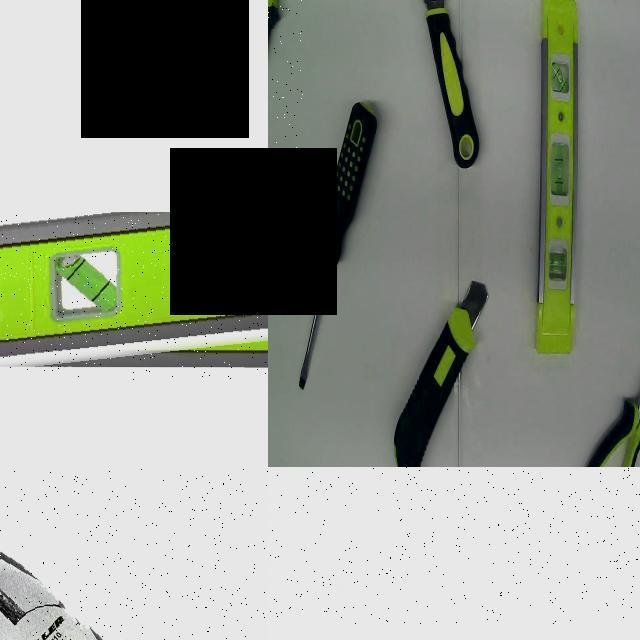estilete: (395, 281, 487, 466)
